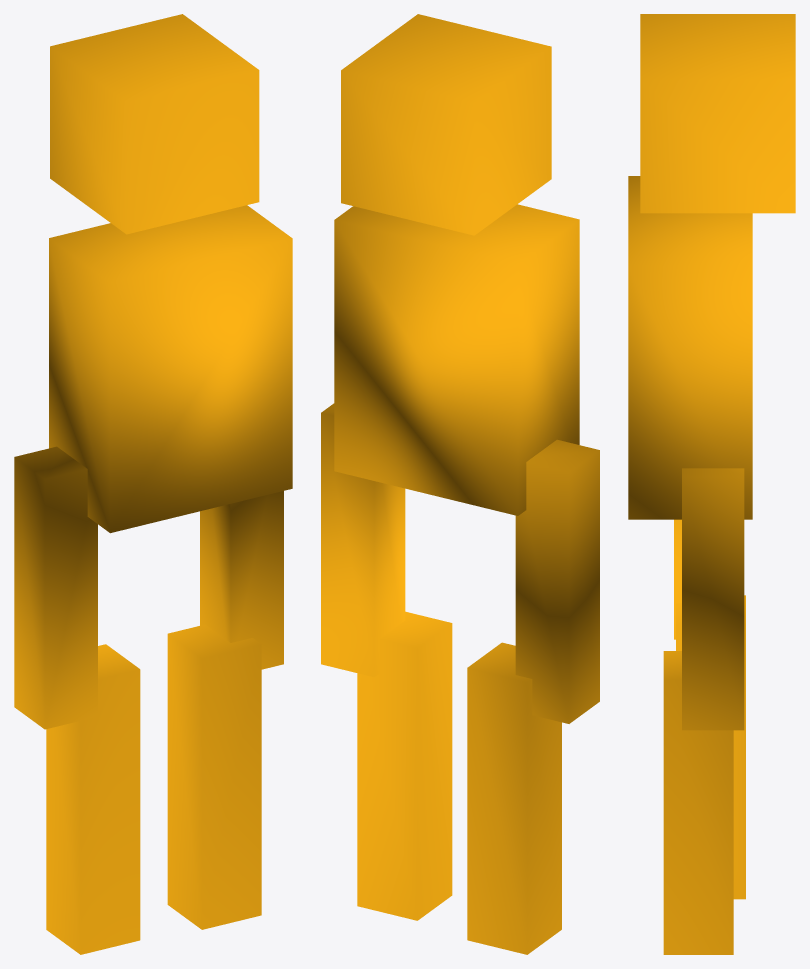
Rendered from ps2_jrpg_mage_wizard_arcanist_npc.obj.
3 views of the same model, side by side, from view 1: azimuth 30°, elevation 25°; view 2: azimuth 150°, elevation 25°; view 3: azimuth 270°, elevation 25° (orthographic).
Size of the model in its own units: 0.7317 by 2.47 by 0.4305.
